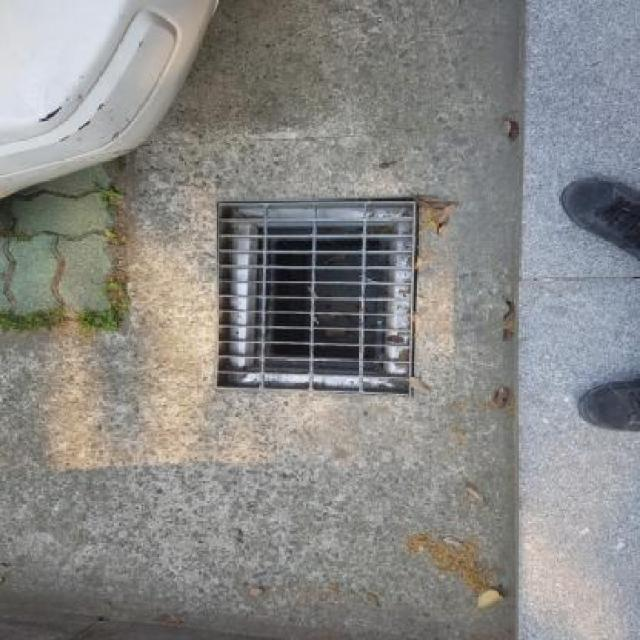Drain Hole: (193, 188, 442, 408)
